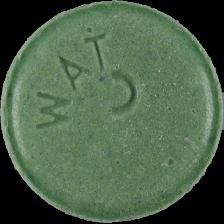68258-5005: (0, 0, 224, 224)
